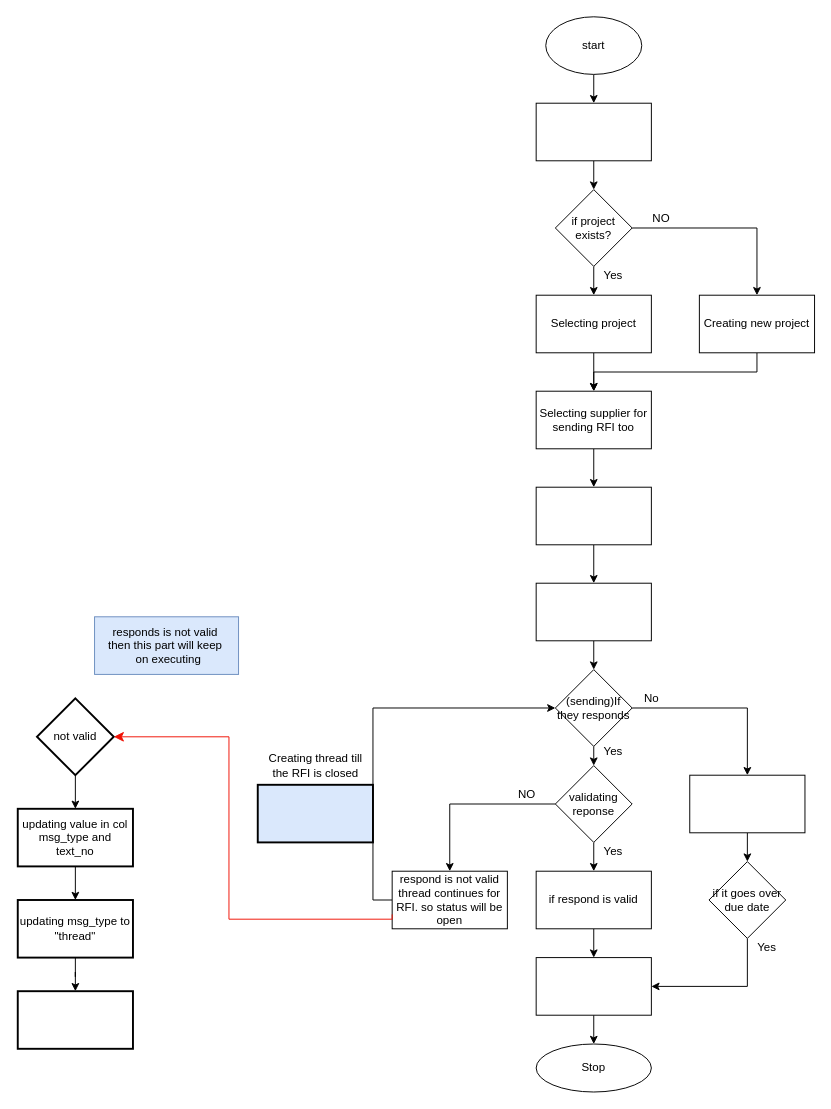
Image size: 831x1109. Some labels were removed from this diagram. The shapes that lost their labels are listed below. From the top down, each one's centre as x and y in pixels, then its label:
the point at 593,131: login for user
the point at 593,515: Selecting email template
the point at 593,611: Sending mail to selected supplier
the point at 314,813: Counter increases to keep track till it is in close state
the point at 747,803: Not responded yet status will be open
the point at 593,986: Updating status to closed
the point at 74,1019: updating text_no number of time iterated
